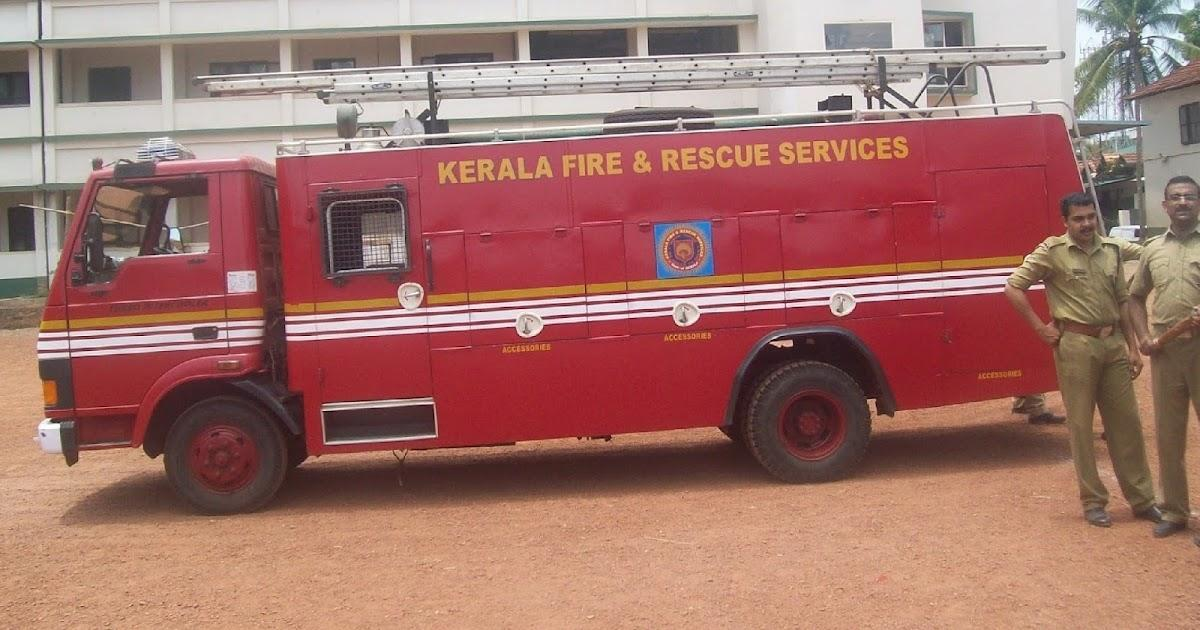Fire-engine: (34, 112, 1085, 518), (201, 46, 1061, 115), (434, 127, 918, 185), (644, 221, 722, 281)
